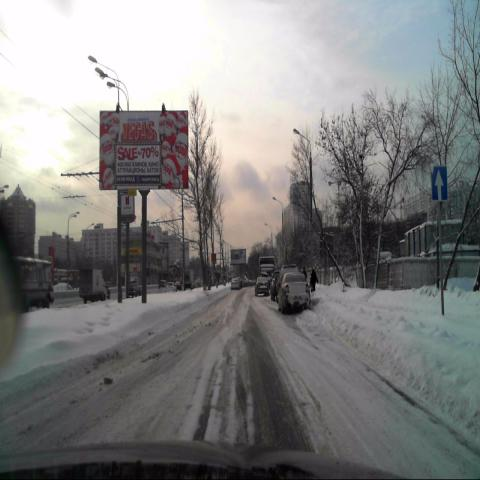5_5: (432, 166, 448, 199)
